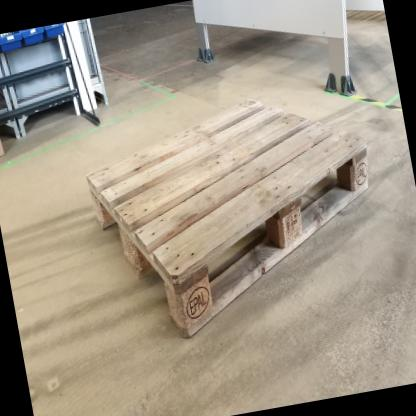BoxFace: (81, 94, 372, 351)
